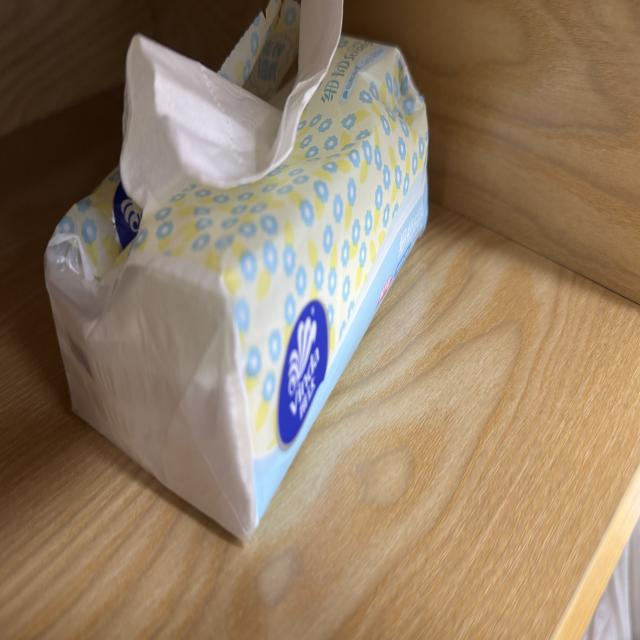tissue: (46, 38, 427, 539), (121, 0, 342, 208), (219, 0, 285, 86), (244, 0, 300, 100)
